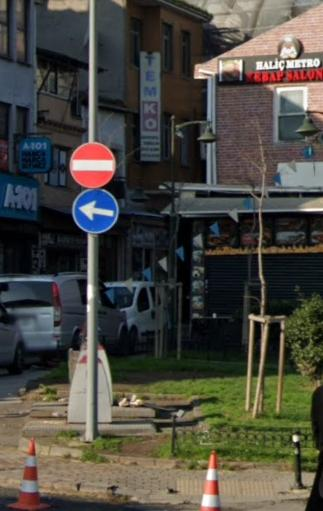turnleft: (73, 188, 119, 230)
